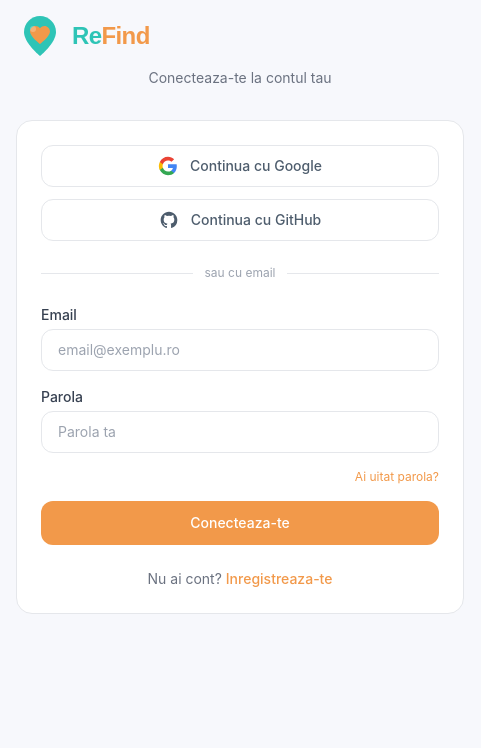
Test case: Auth Page › switches to register mode
Click the button "Inregistreaza-te" at {"x": 279, "y": 579}, box [226, 569, 332, 589]
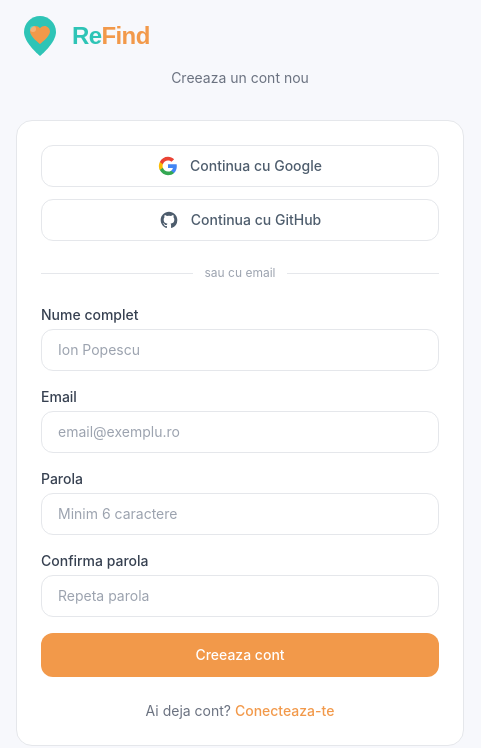
Expected: the text "Creeaza un cont nou" is shown, [171, 69, 309, 86]
Expected: the field with placeholder "Ion Popescu" is shown, [41, 329, 439, 371]
Expected: the password field with placeholder "Repeta parola" is shown, [41, 575, 439, 617]
